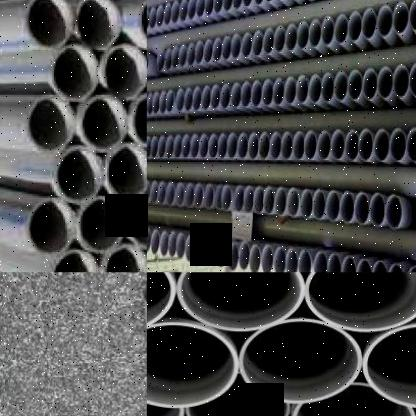pipe: (240, 318, 362, 404), (147, 322, 237, 408), (175, 272, 304, 332), (304, 272, 416, 332), (186, 372, 290, 416), (363, 323, 416, 408), (290, 382, 416, 415), (71, 92, 129, 154), (49, 144, 105, 204), (24, 93, 74, 156), (47, 43, 101, 100), (23, 197, 76, 254), (97, 138, 147, 198), (76, 193, 127, 251), (97, 41, 147, 97), (70, 0, 124, 50), (22, 0, 74, 51), (121, 86, 147, 146), (147, 375, 184, 416), (100, 241, 147, 272), (47, 247, 103, 272), (124, 192, 147, 249), (392, 64, 409, 98), (385, 195, 402, 229), (392, 2, 409, 34), (374, 129, 390, 162), (377, 4, 393, 37), (390, 129, 406, 161), (362, 68, 378, 100), (347, 69, 363, 100), (358, 129, 373, 162), (370, 193, 385, 226), (354, 192, 369, 225), (378, 66, 393, 98), (330, 129, 345, 160), (362, 8, 377, 39), (325, 190, 340, 221), (317, 129, 331, 161), (340, 191, 354, 223), (345, 130, 359, 161), (321, 15, 335, 46), (304, 129, 317, 161), (349, 11, 362, 42), (334, 71, 347, 101), (335, 14, 348, 44), (286, 188, 299, 218), (312, 188, 324, 220), (238, 241, 250, 271), (300, 189, 312, 219), (284, 247, 298, 272), (236, 132, 248, 161), (292, 131, 304, 160), (322, 72, 334, 101), (285, 22, 297, 51), (309, 18, 321, 47), (274, 187, 286, 216), (406, 127, 416, 161), (258, 132, 270, 160), (270, 132, 282, 160), (274, 24, 286, 52), (261, 244, 273, 272), (216, 238, 227, 268), (284, 76, 296, 103), (298, 249, 312, 272), (273, 77, 284, 106), (309, 74, 320, 103), (263, 186, 274, 215), (274, 246, 286, 272), (248, 132, 259, 160), (297, 75, 308, 103), (263, 27, 274, 55), (249, 244, 260, 272), (228, 241, 238, 271), (205, 237, 215, 267), (221, 185, 232, 212), (313, 251, 327, 272), (185, 234, 195, 263), (220, 83, 231, 109), (282, 132, 292, 160), (327, 252, 341, 272), (196, 236, 206, 264), (150, 228, 160, 256), (240, 82, 251, 107), (241, 32, 252, 57), (340, 255, 356, 272), (208, 133, 218, 160), (218, 132, 228, 159), (252, 80, 262, 107), (262, 79, 272, 106), (298, 22, 308, 49), (244, 186, 254, 213), (254, 186, 263, 215), (231, 82, 241, 108), (231, 33, 241, 59), (253, 30, 263, 56), (176, 232, 186, 258), (234, 186, 244, 212), (409, 61, 416, 97), (192, 86, 202, 111), (212, 37, 222, 62), (204, 184, 214, 209), (194, 183, 204, 208), (182, 133, 191, 160), (190, 132, 199, 159), (199, 133, 208, 159), (168, 231, 177, 257), (228, 132, 236, 161), (165, 134, 174, 159), (173, 134, 182, 159), (202, 85, 211, 110), (211, 84, 220, 109), (204, 38, 213, 63), (185, 182, 194, 207), (356, 258, 372, 272), (409, 0, 416, 31), (166, 90, 175, 114), (195, 40, 204, 64), (222, 36, 231, 60), (166, 181, 175, 205), (157, 180, 166, 204), (160, 230, 168, 256), (214, 185, 222, 211), (176, 181, 184, 207), (371, 260, 388, 272), (152, 91, 160, 116), (186, 42, 194, 67), (150, 135, 158, 159), (158, 135, 166, 159), (176, 88, 184, 112), (184, 88, 192, 112), (172, 0, 180, 24), (150, 180, 158, 204), (156, 50, 165, 71), (178, 44, 186, 67), (164, 48, 172, 70), (156, 5, 164, 27), (149, 6, 156, 30), (179, 0, 187, 21), (387, 263, 405, 272), (164, 3, 171, 26), (196, 0, 205, 17), (187, 0, 195, 19), (147, 91, 153, 116), (160, 91, 166, 115), (172, 45, 178, 69), (204, 0, 213, 15), (213, 0, 222, 13), (147, 226, 151, 253), (223, 0, 232, 11), (147, 135, 151, 158), (233, 0, 242, 9), (242, 0, 253, 7), (147, 179, 150, 204), (254, 0, 264, 5), (147, 8, 149, 31), (147, 51, 149, 73)
